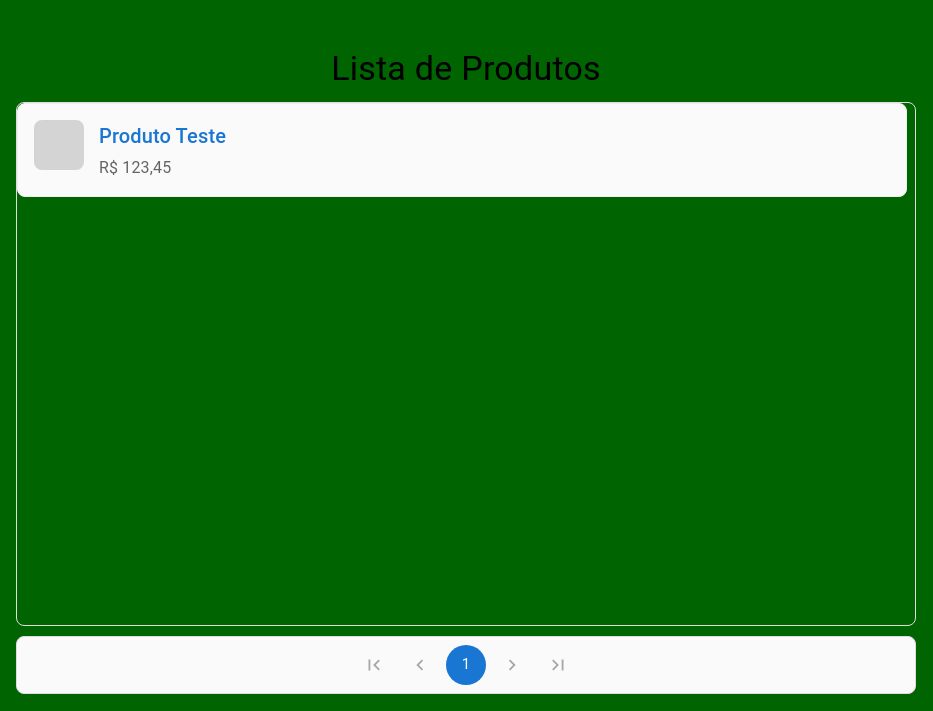
Mostra o detalhe do produto ao clicar no título
Click the text "Produto Teste": (163,136) x1=99 y1=120 x2=226 y2=152
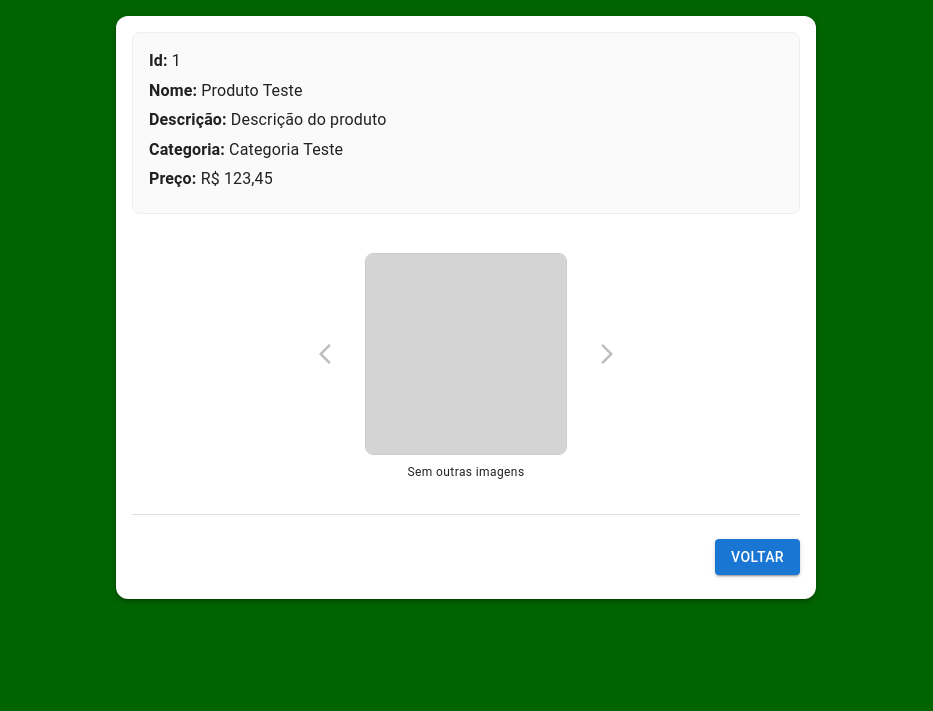
Check: the button "Voltar" is shown, box x1=715 y1=539 x2=800 y2=576
